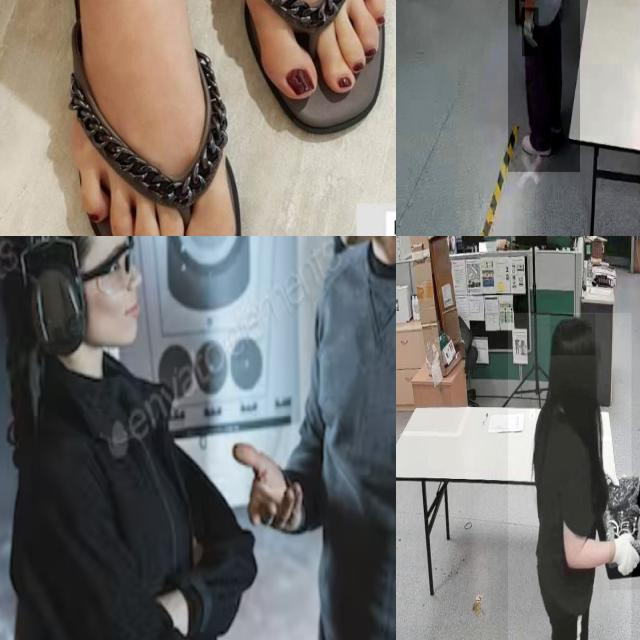Ear-protection: (15, 236, 145, 386)
Sandals: (0, 0, 396, 236)
glasses: (72, 236, 146, 296)
hand_glove: (609, 525, 640, 590), (522, 8, 539, 58)
head_nohelmet: (550, 314, 596, 356)
person: (0, 236, 228, 640), (508, 312, 632, 640), (300, 236, 396, 630), (507, 0, 580, 173)
shoes: (519, 128, 555, 162)
